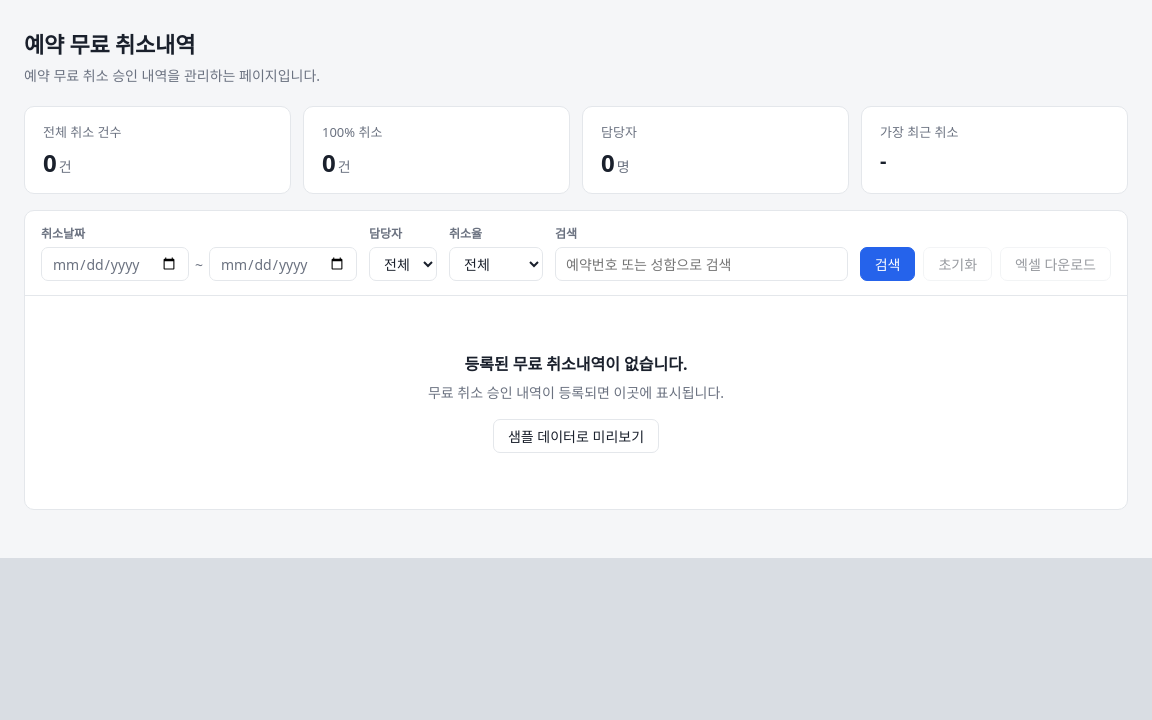
Test: CancellationBoard › previews sample data with search, reset and copy
The image size is (1152, 720).
Click the button "샘플 데이터로 미리보기".
click(576, 436)  # box [493,419,659,453]
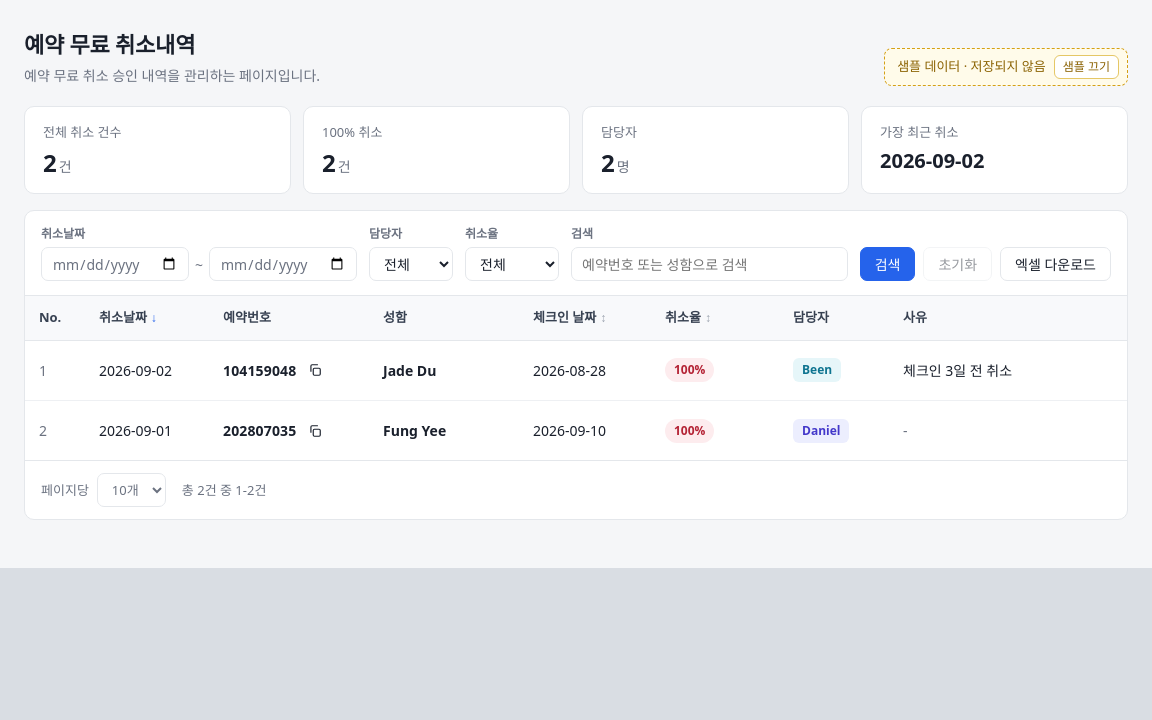
Check: the text "샘플 데이터 · 저장되지 않음" is shown, box [897,57,1046,77]
Check: the text "Fung Yee" is shown, box [369,400,519,460]
Check: the text "Jade Du" is shown, box [369,340,519,400]
Type "104159048" into the search field with placeholder "예약번호 또는 성함으로 검색".
click(709, 264); type("104159048")  # box [571,247,848,281]
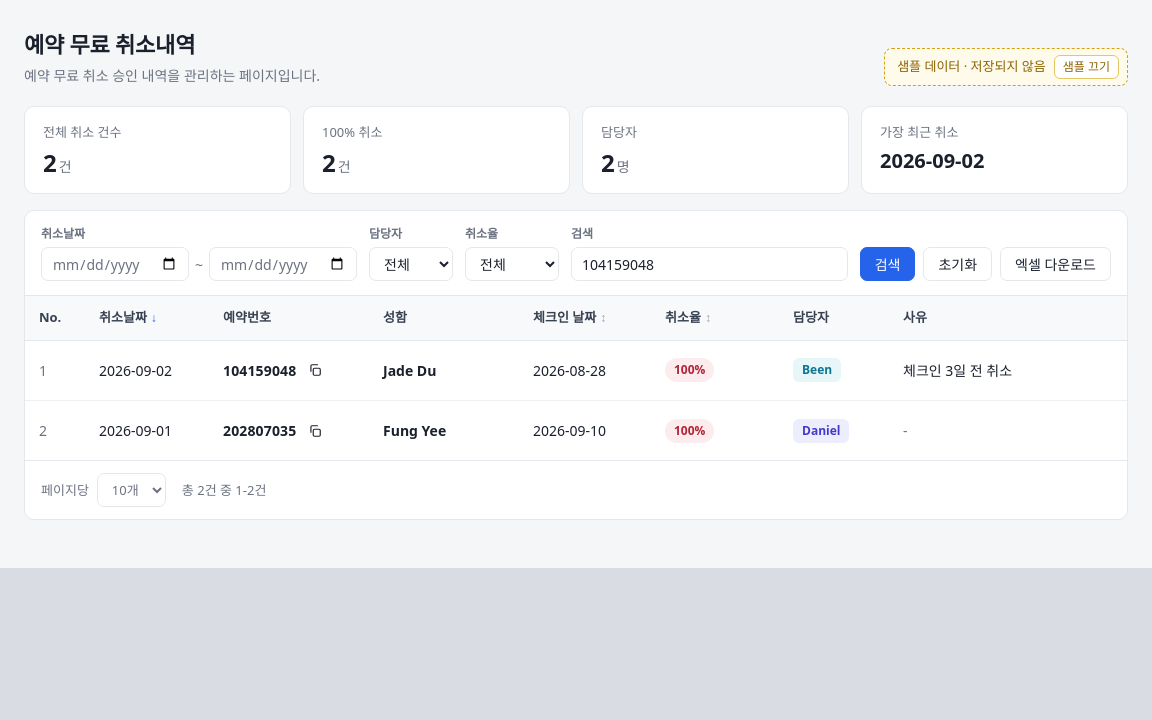
Click the button "검색".
click(888, 264)  # box [860,247,916,281]
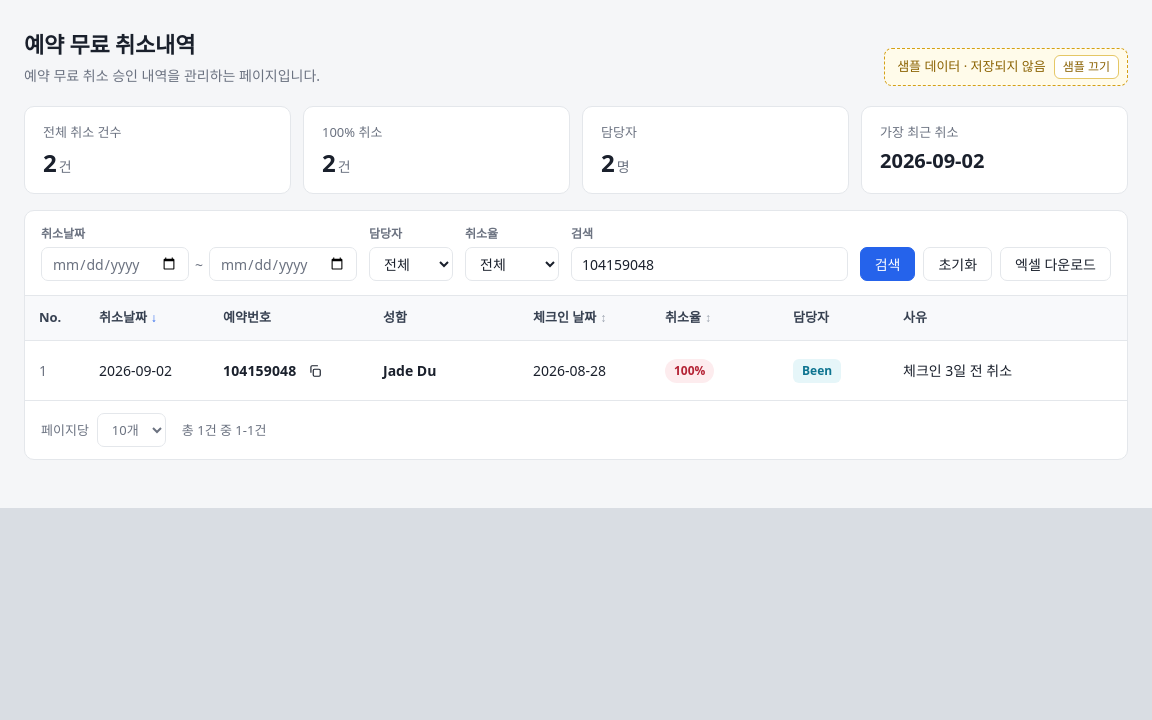
Check: the text "Jade Du" is shown, box [369,340,519,400]
Check: the text "Fung Yee" is gone
Click the button "초기화".
click(958, 264)  # box [923,247,992,281]
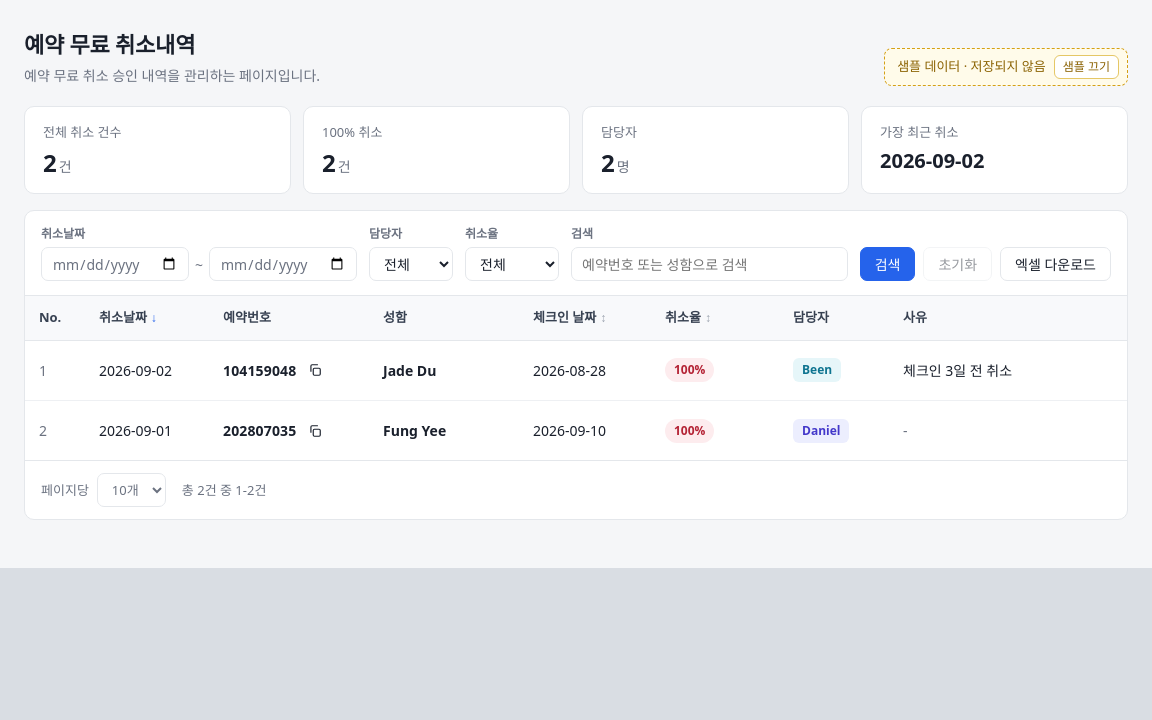
Check: the text "Fung Yee" is shown, box [369,400,519,460]
Click the button named "예약번호 202807035 복사".
click(315, 430)  # box [302,418,328,442]
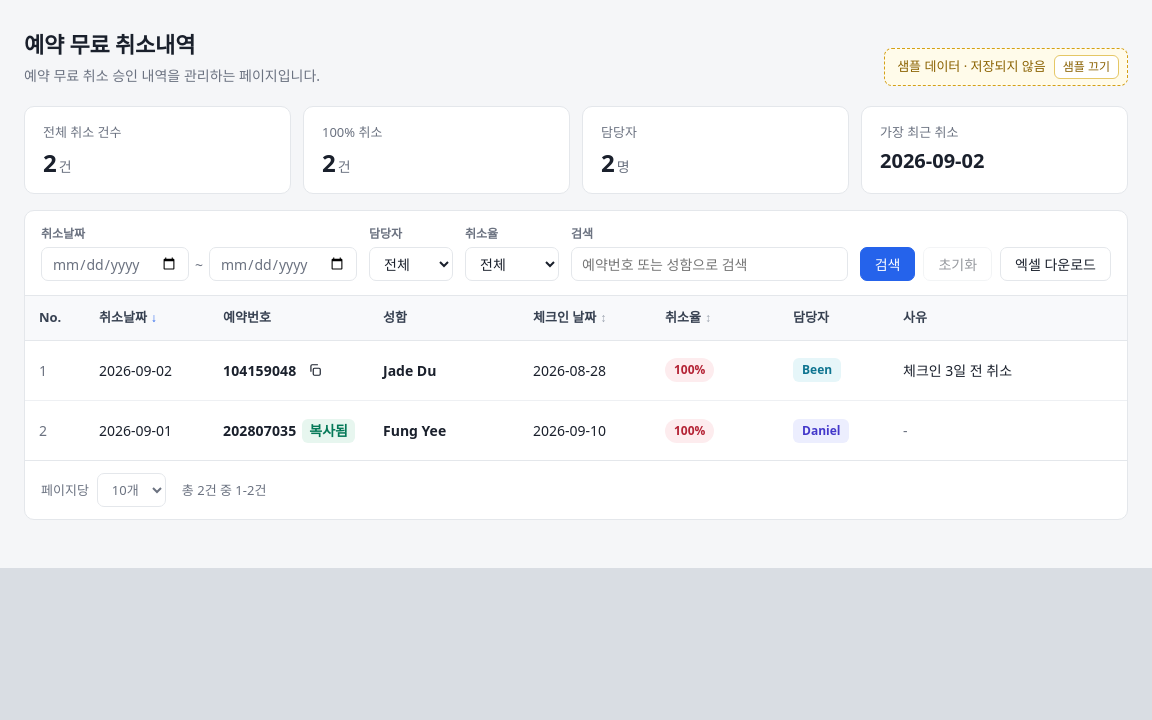
Check: the button "복사됨" is shown, box [302,418,355,442]
